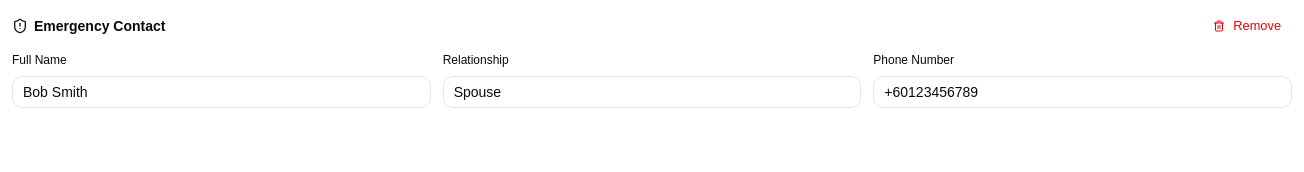
Scenario: EmergencyContactForm › hides inputs and shows placeholder text after clicking 'Remove'
Click the button "Remove". click: {"x": 1247, "y": 26}
box: [1202,12,1292,40]
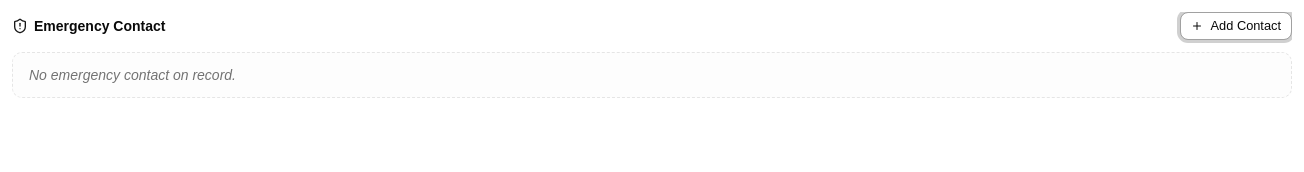
Expected: the field showing "Bob Smith" is not shown
Expected: the text "No emergency contact on record." is shown, [29,67,236,83]
